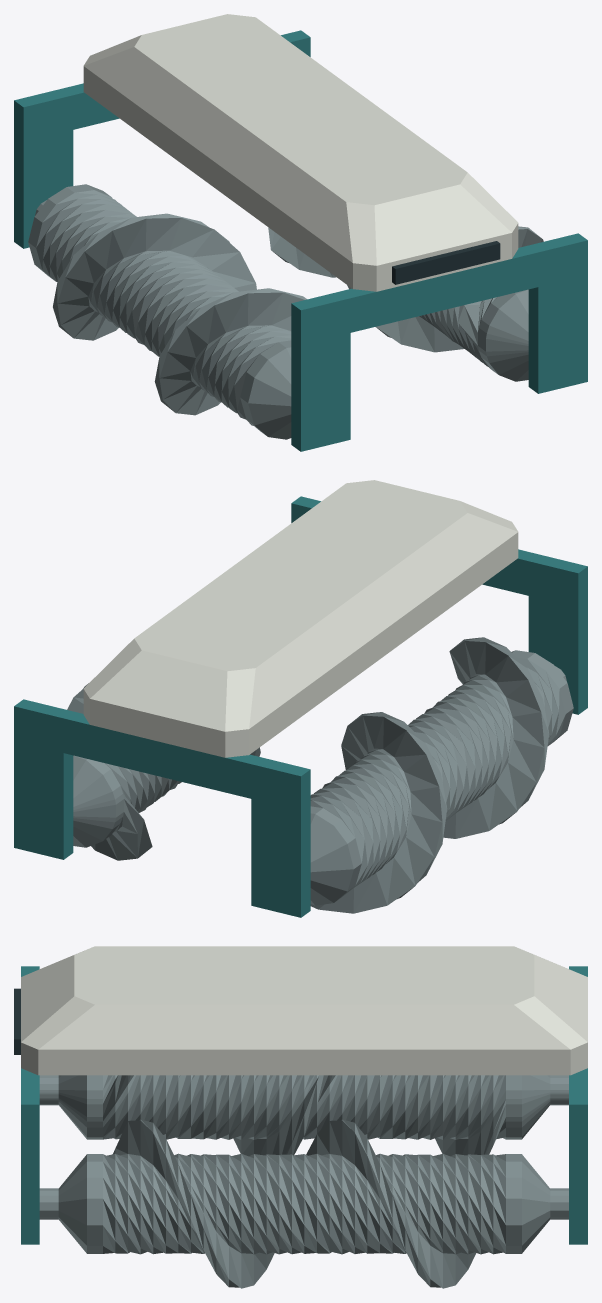
3 renders of one model, top to bottom at view 1: azimuth 30°, elevation 25°; view 2: azimuth 150°, elevation 25°; view 3: azimuth 270°, elevation 25°, orthographic.
Parts seen in each view (by area): view 1: WholeLowBridgeHousing, LeftWholeIntegralHelicalDrum, WholeFrontJournalBearingArch, RightWholeOppositeHandHelicalDrum, WholeRearJournalBearingArch, WholeBackedOpaqueFrontVisor; view 2: WholeLowBridgeHousing, LeftWholeIntegralHelicalDrum, WholeRearJournalBearingArch, WholeFrontJournalBearingArch, RightWholeOppositeHandHelicalDrum; view 3: WholeLowBridgeHousing, RightWholeOppositeHandHelicalDrum, LeftWholeIntegralHelicalDrum, WholeRearJournalBearingArch, WholeFrontJournalBearingArch, WholeBackedOpaqueFrontVisor.
Part boxes in pixels (bbox=[...]): WholeLowBridgeHousing: bbox=[83, 14, 518, 291]; LeftWholeIntegralHelicalDrum: bbox=[28, 184, 307, 439]; WholeFrontJournalBearingArch: bbox=[291, 233, 587, 451]; RightWholeOppositeHandHelicalDrum: bbox=[268, 226, 543, 381]; WholeRearJournalBearingArch: bbox=[14, 30, 310, 248]; WholeBackedOpaqueFrontVisor: bbox=[392, 241, 500, 284]; WholeLowBridgeHousing: bbox=[83, 480, 518, 757]; LeftWholeIntegralHelicalDrum: bbox=[310, 637, 573, 913]; WholeRearJournalBearingArch: bbox=[14, 699, 310, 917]; WholeFrontJournalBearingArch: bbox=[291, 496, 587, 714]; RightWholeOppositeHandHelicalDrum: bbox=[67, 683, 260, 860]; WholeLowBridgeHousing: bbox=[21, 946, 587, 1075]; RightWholeOppositeHandHelicalDrum: bbox=[39, 1119, 568, 1288]; LeftWholeIntegralHelicalDrum: bbox=[39, 1075, 568, 1156]; WholeRearJournalBearingArch: bbox=[569, 966, 587, 1244]; WholeFrontJournalBearingArch: bbox=[21, 966, 39, 1244]; WholeBackedOpaqueFrontVisor: bbox=[14, 988, 20, 1054].
Bounding box in the file's own units: 1.39 × 0.8674 × 1.82.
